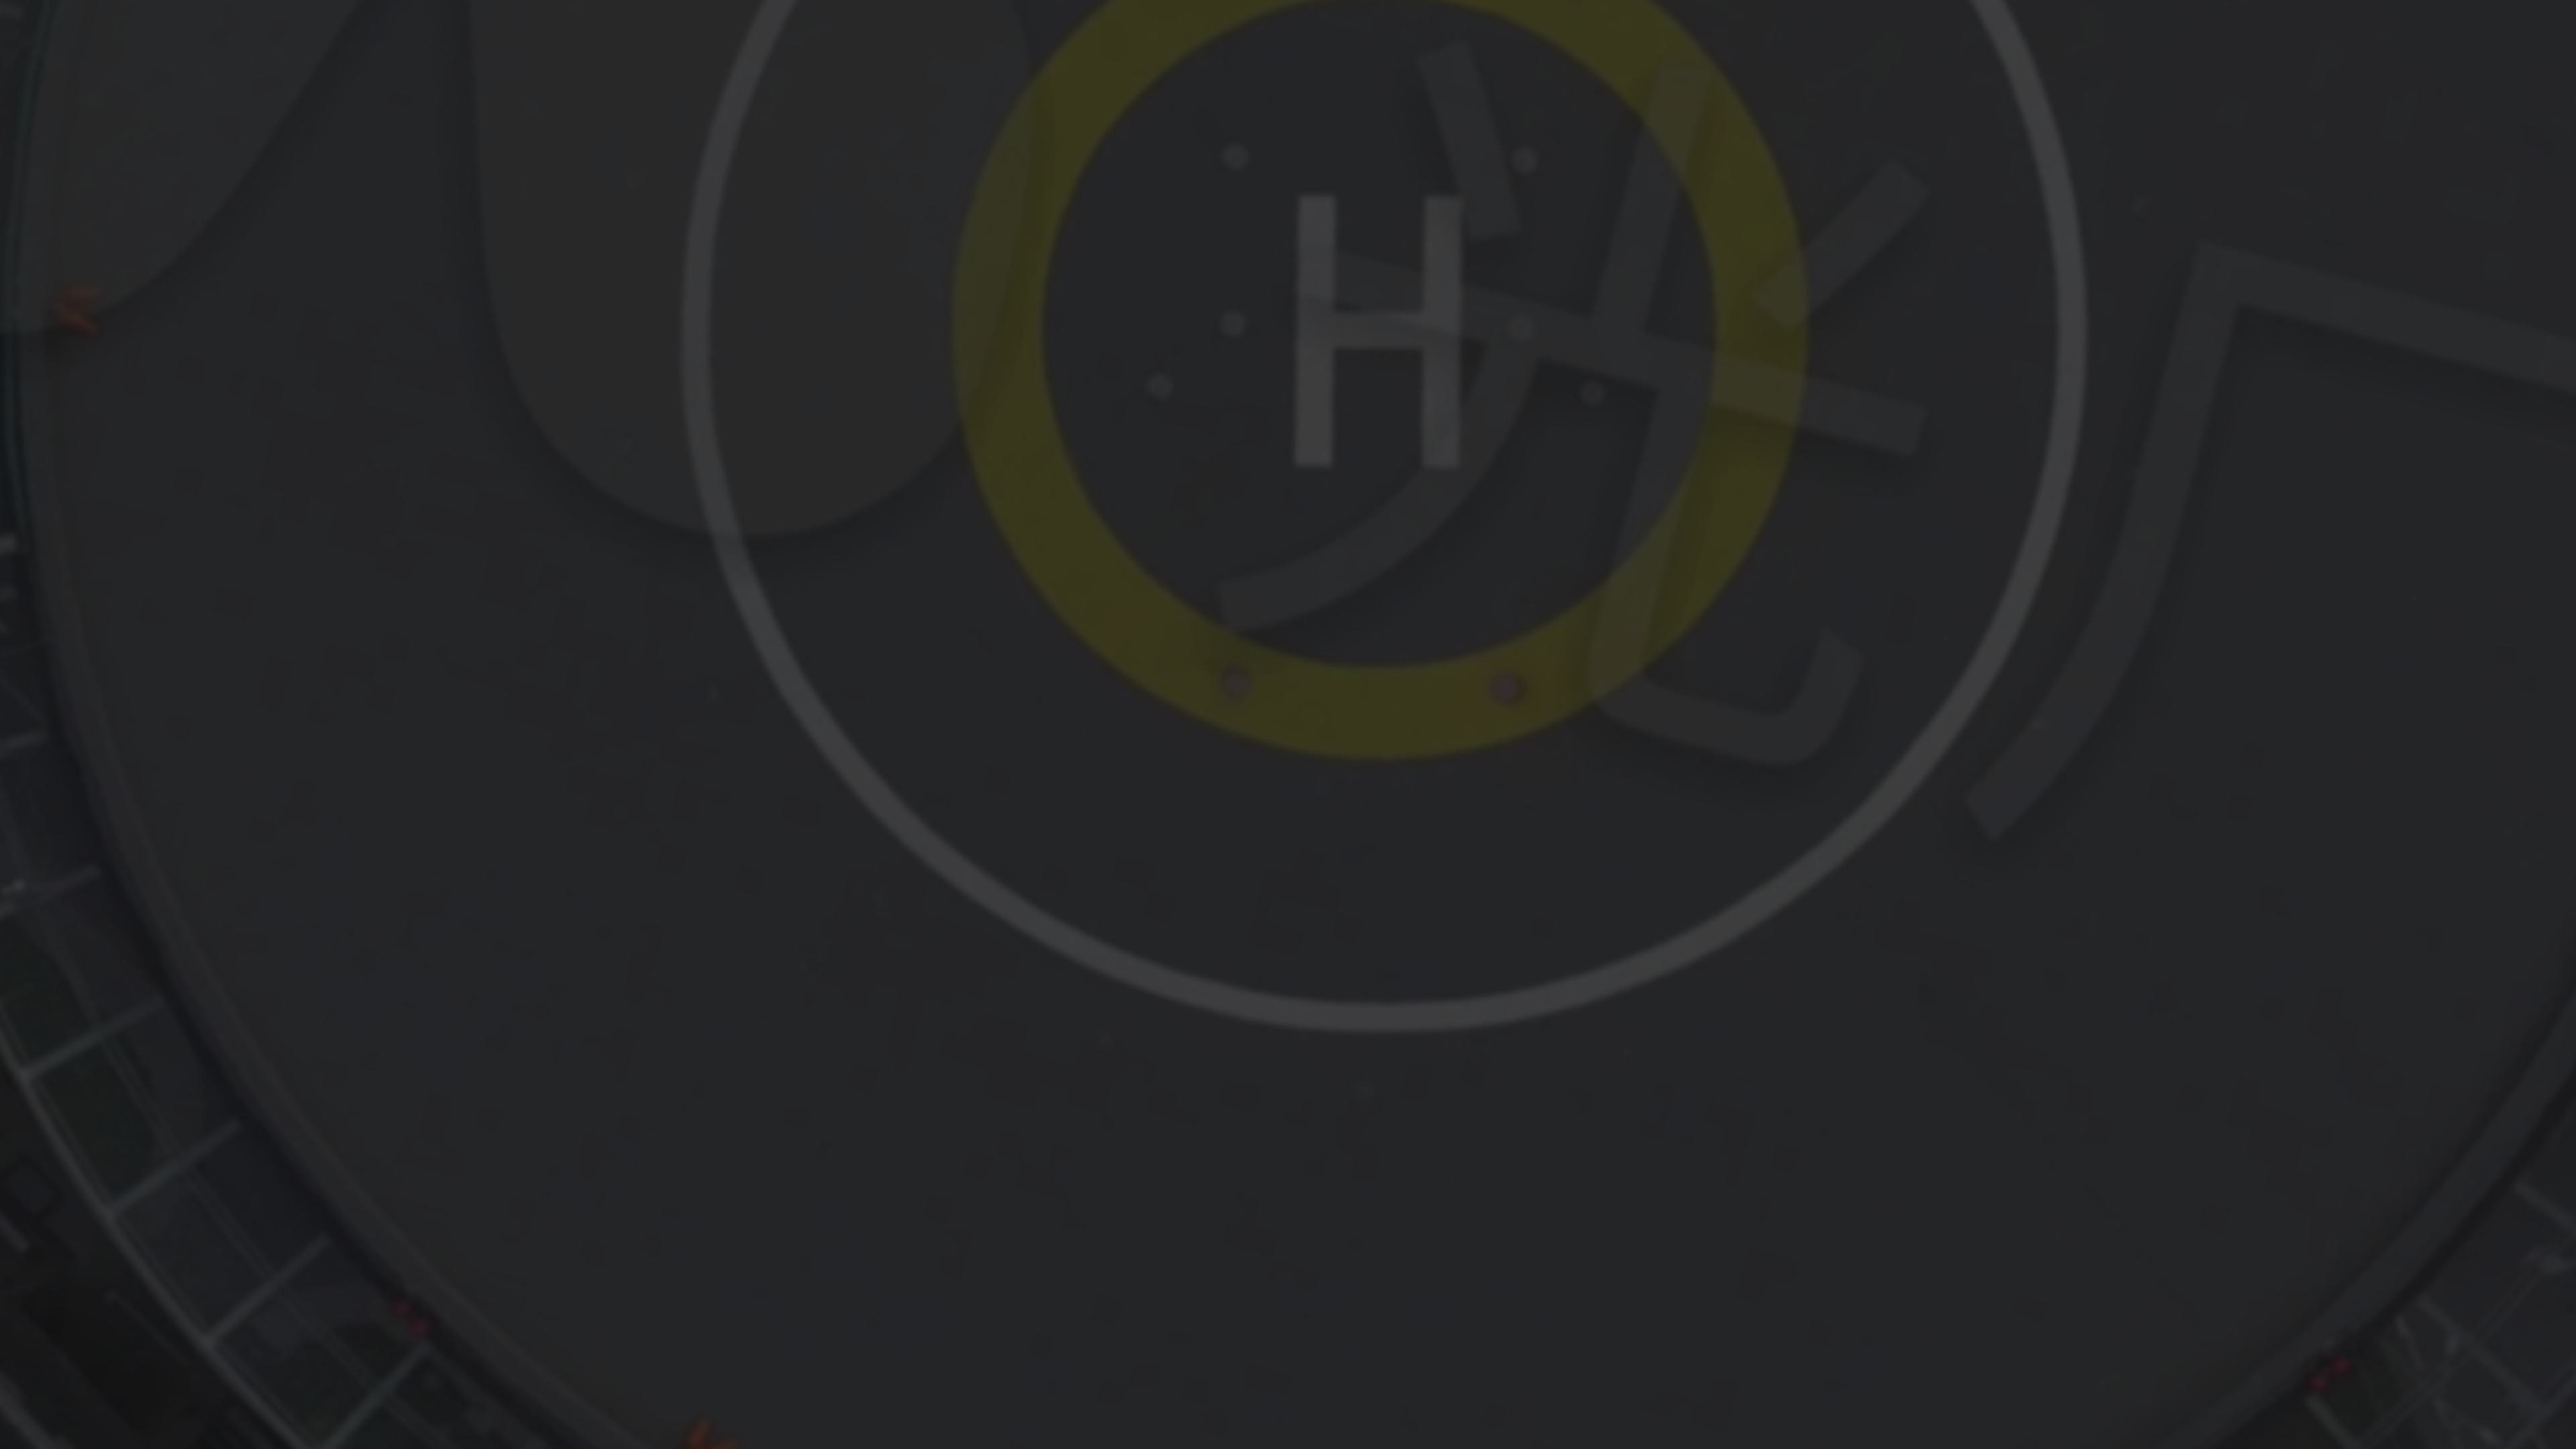Apron: (881, 0, 1824, 782)
